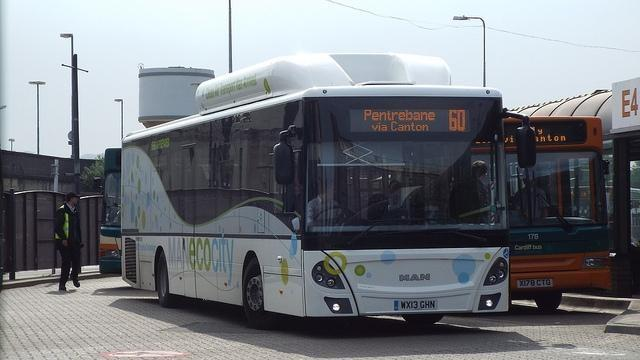bus: (114, 55, 549, 333), (504, 116, 612, 310), (99, 148, 121, 274)
